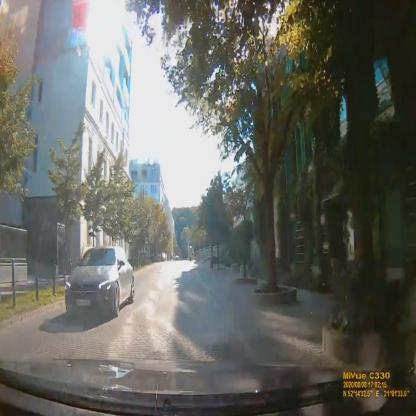cars: (65, 246, 135, 317)
